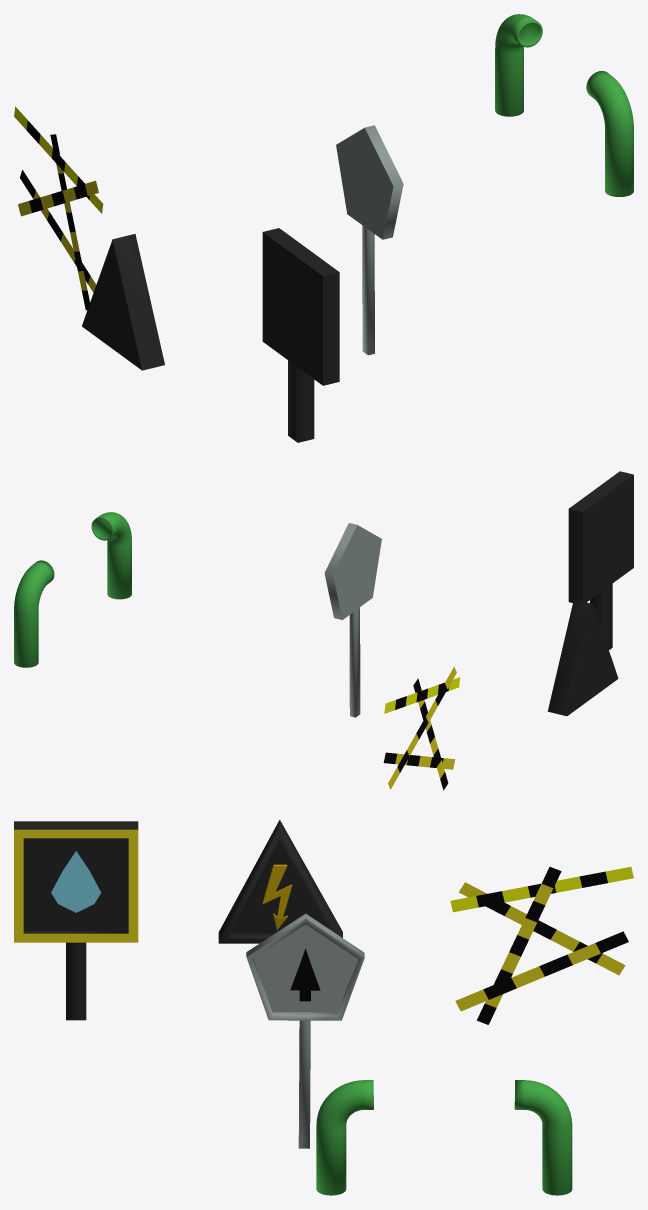
The model's file is TAbletsDanger_expo222.fbx.
3 renders of one model, top to bottom at view 1: azimuth 30°, elevation 25°; view 2: azimuth 150°, elevation 25°; view 3: azimuth 270°, elevation 25°, orthographic. The views are drawn at different scales.
Parts seen in each view (by area): view 1: Water, Trees, Electricdanger, Danger, CompPArt, CompPAer2; view 2: Water, Trees, Electricdanger, Danger, CompPAer2, CompPArt; view 3: Water, Trees, Danger, Electricdanger, CompPArt, CompPAer2.
Part boxes in pixels (box(x1,y1,x2,y2)): Water: box(262, 228, 339, 442); Trees: box(336, 125, 403, 355); Electricdanger: box(82, 234, 164, 370); Danger: box(14, 106, 103, 310); CompPArt: box(586, 71, 633, 197); CompPAer2: box(495, 14, 542, 116); Water: box(568, 471, 633, 649); Trees: box(324, 523, 381, 717); Electricdanger: box(547, 599, 618, 716); Danger: box(383, 666, 460, 790); CompPAer2: box(14, 560, 54, 667); CompPArt: box(91, 512, 131, 599); Water: box(14, 821, 138, 1020); Trees: box(246, 913, 364, 1148); Danger: box(450, 867, 633, 1024); Electricdanger: box(218, 820, 342, 943); CompPArt: box(316, 1080, 373, 1195); CompPAer2: box(514, 1080, 572, 1195).
Size of the model in its own units: 1040 by 411 by 997.
